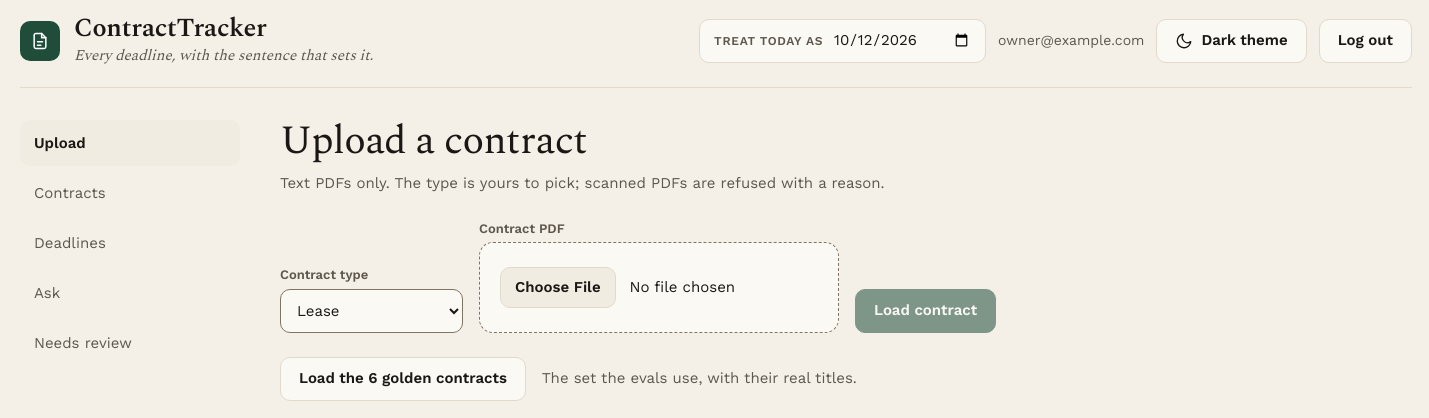
Scenario: the page › shows the server's message when a question cannot be answered
The width and height of the screenshot is (1429, 418).
Expected: the tab "Upload" is shown, [20, 120, 240, 166]
Click the tab "Ask" at {"x": 130, "y": 293}, box [20, 270, 240, 316]
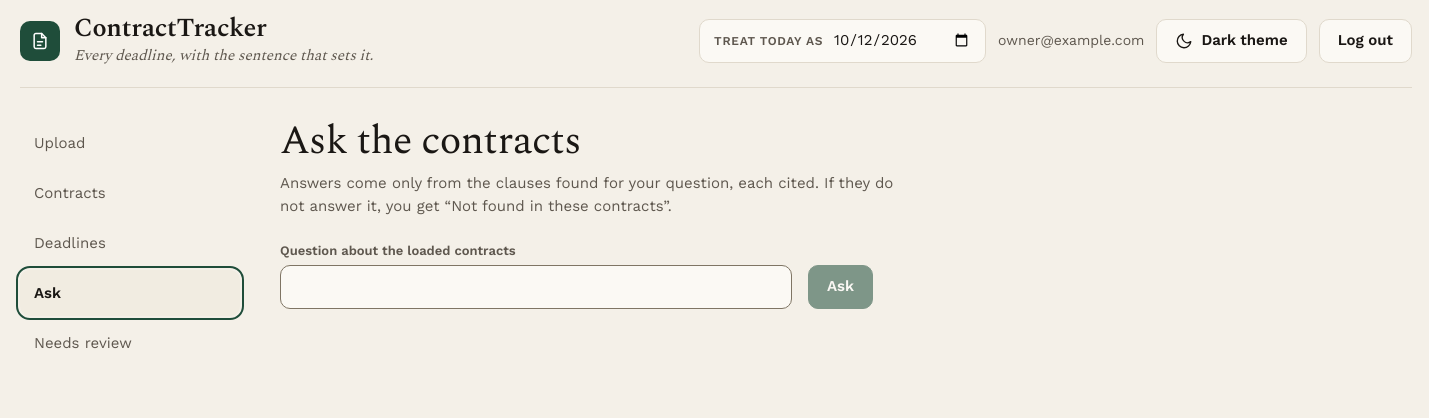
Type "Who pays?" into the field labelled "Question about the loaded contracts" at {"x": 536, "y": 287}, box [280, 265, 792, 309]
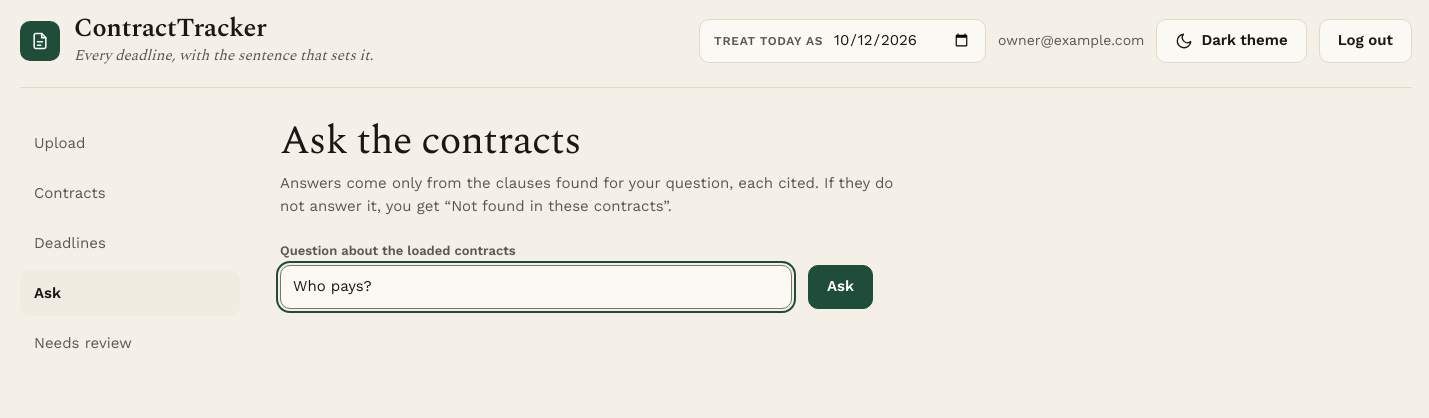
Click the button "Ask" at {"x": 840, "y": 287}, box [808, 265, 873, 309]
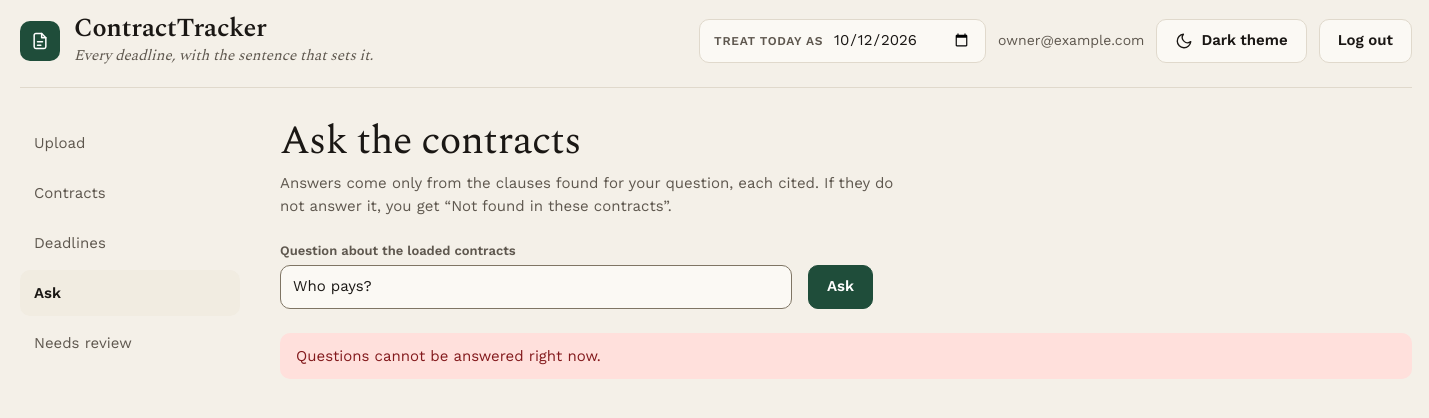
Now the message reads "Questions cannot be answered right now.", box [296, 347, 601, 365]
